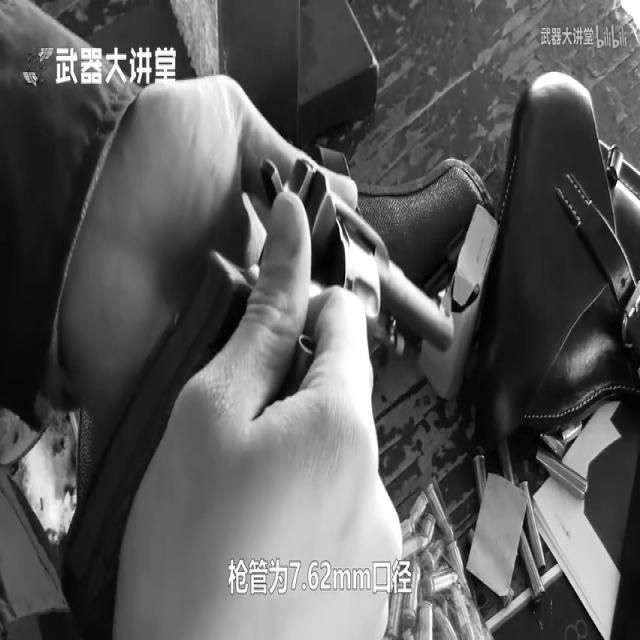Hand-Gun: (271, 144, 472, 398)
